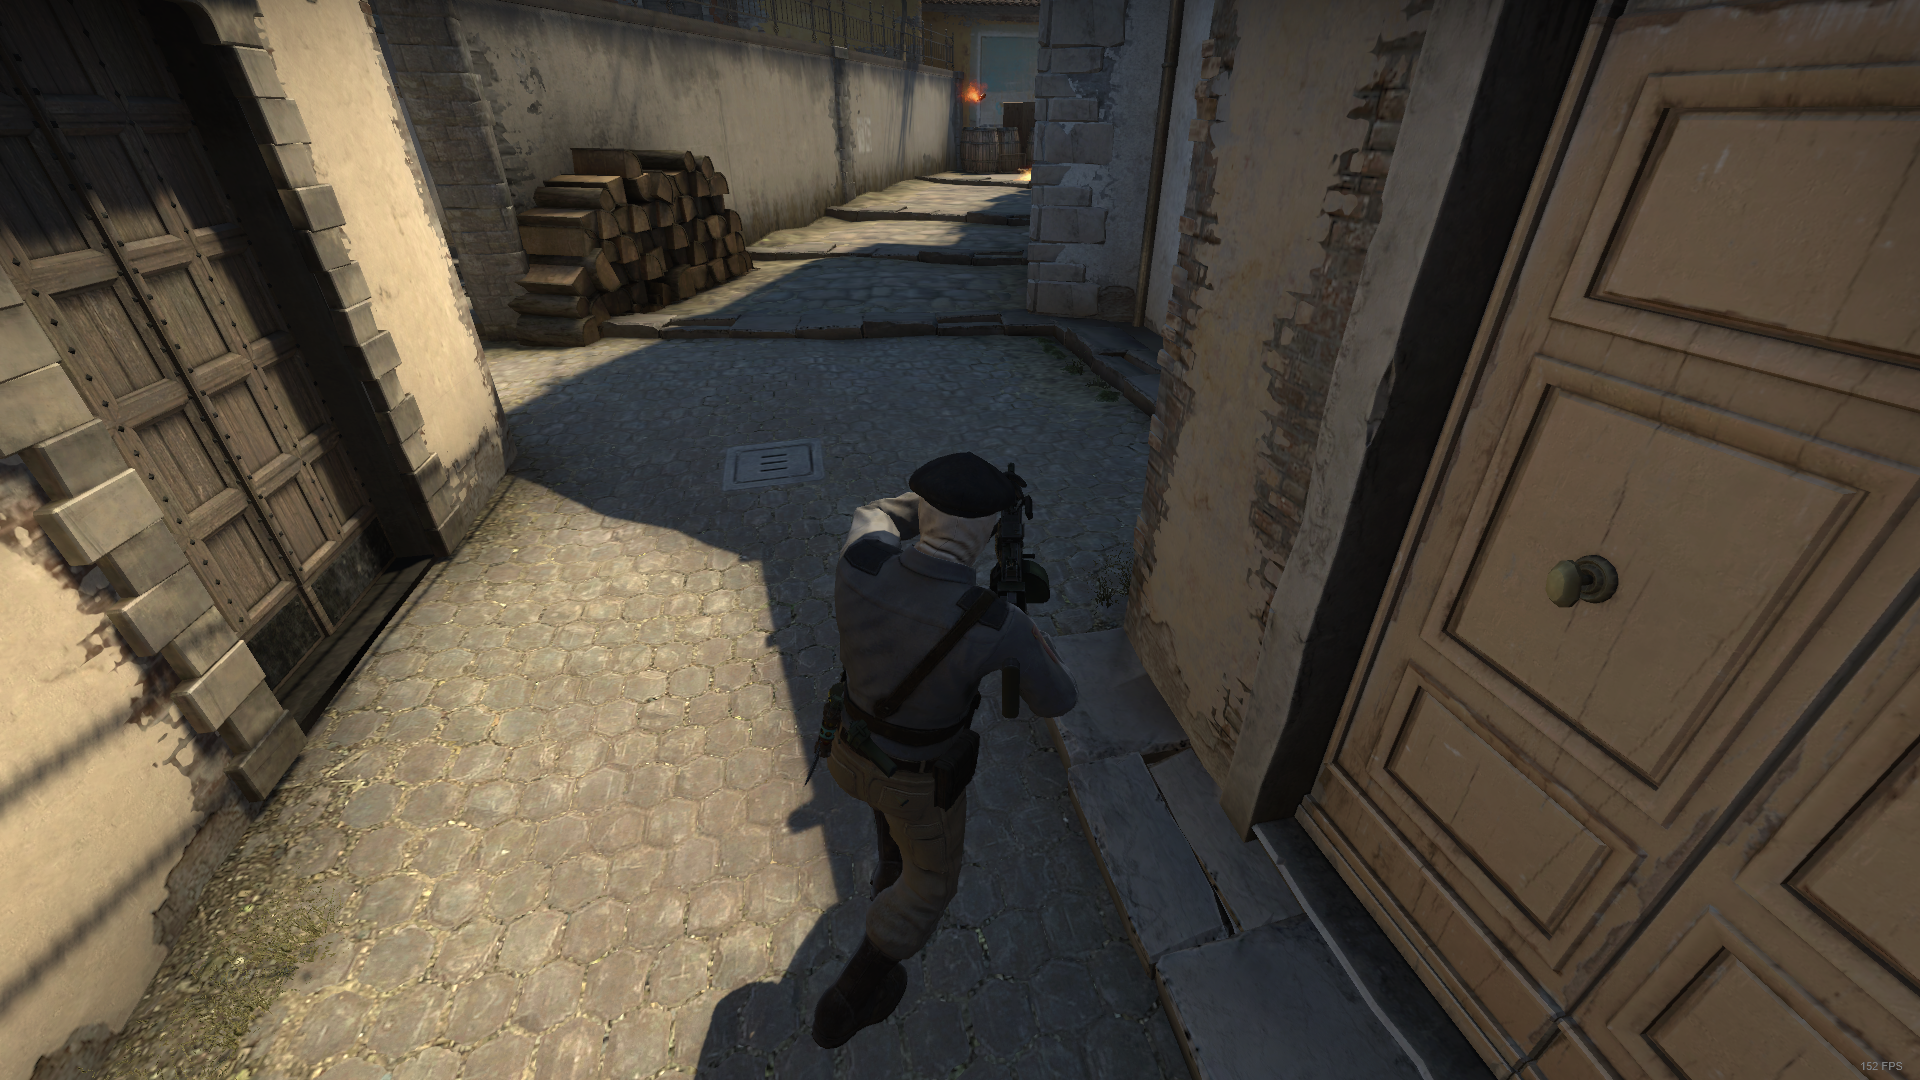t: (789, 448, 1084, 1054)
